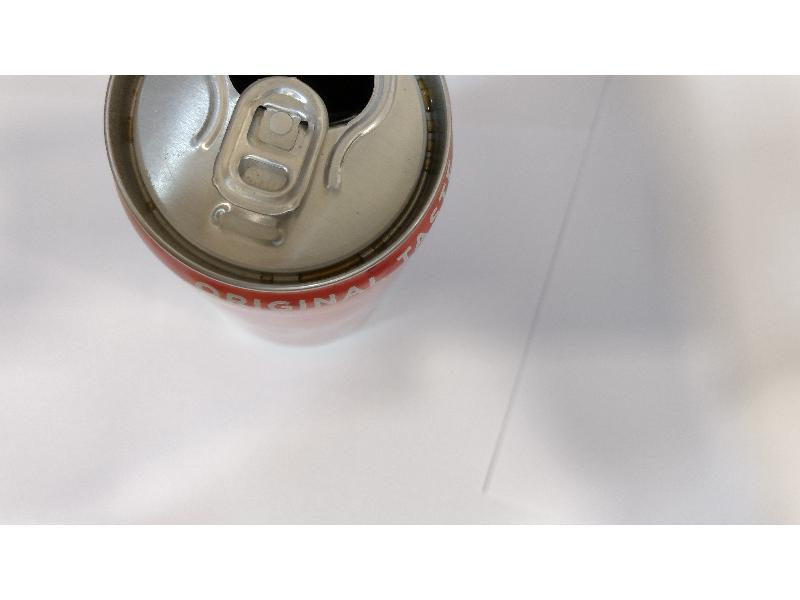can: (94, 73, 475, 356)
